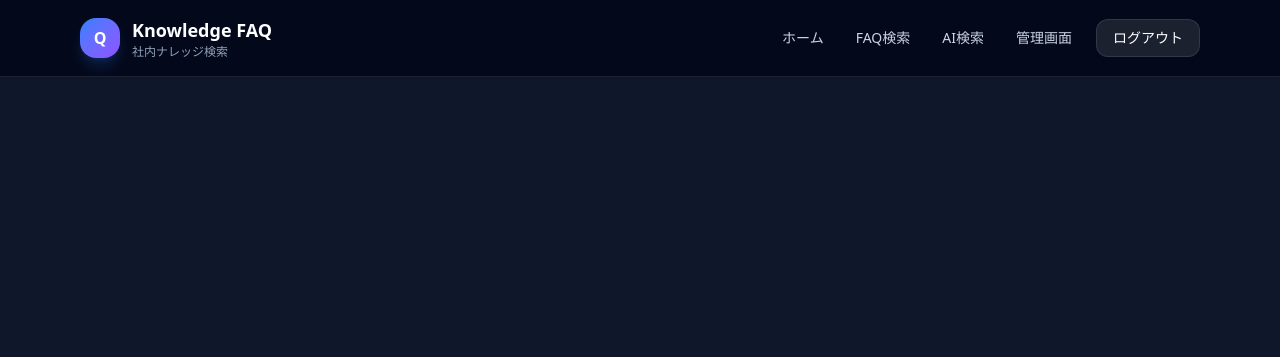
Test: Header › キャンセルを押すとログアウト確認モーダルが閉じる
Click the button "ログアウト": {"x": 1148, "y": 38} [1096,19,1200,57]
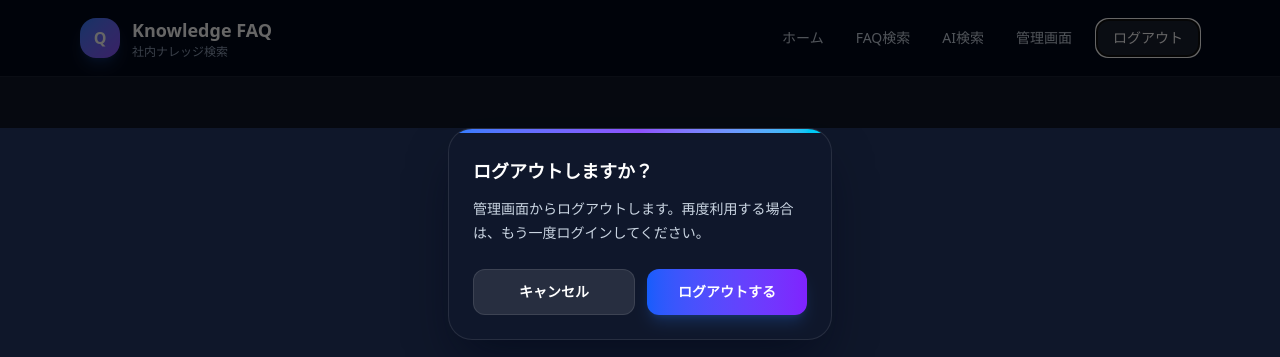
Result: the heading "ログアウトしますか？" is shown at [473,159,653,183]
Click the button "キャンセル": {"x": 554, "y": 292} [473,269,635,315]
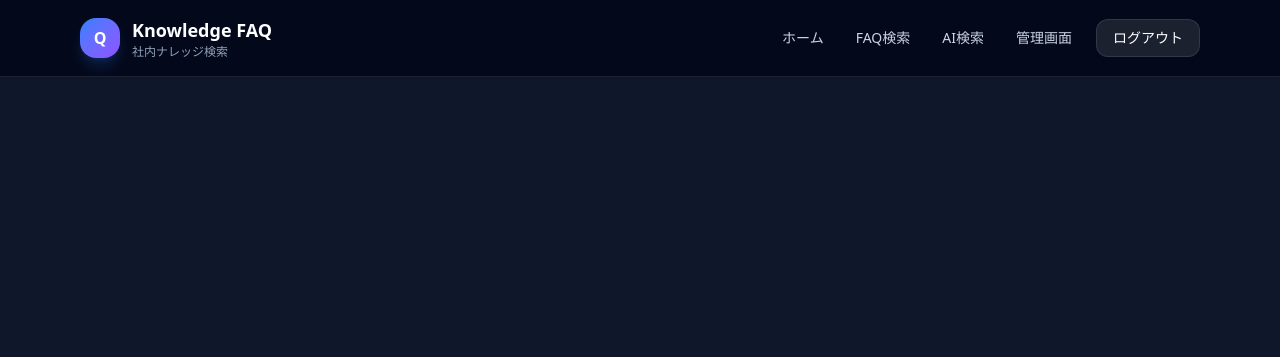
Result: the heading "ログアウトしますか？" is gone
